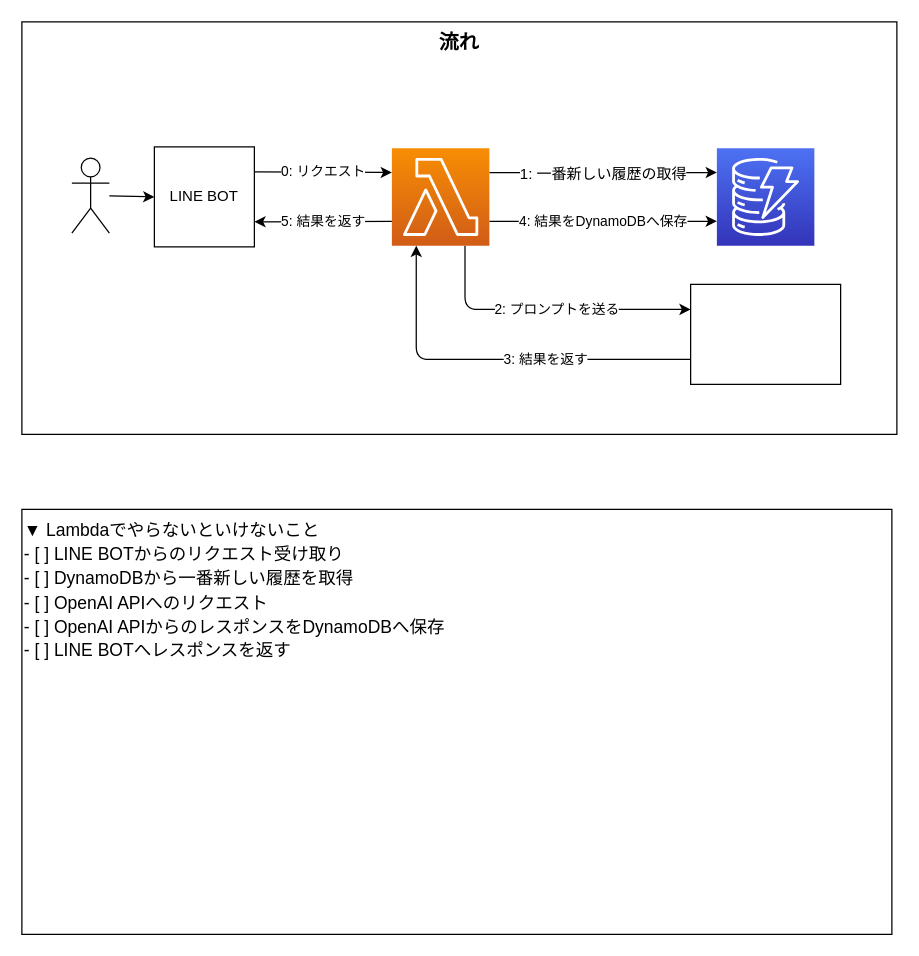
The diagram is 919 pixels wide and 956 high, and some of its shapes have lost their labels. The shapes that lost their labels are listed below. From the top down, each one's centre as x and y in pixels, then its label:
[90,195]: User
[765,333]: OpenAI API
